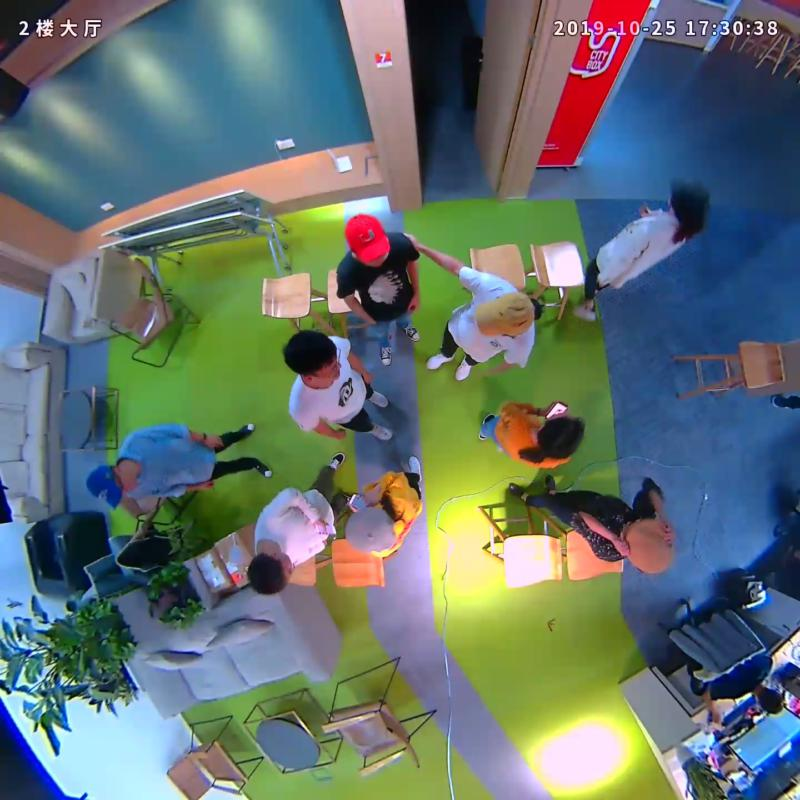head: (618, 516, 675, 575), (283, 329, 342, 382), (476, 289, 536, 336), (343, 506, 398, 553), (85, 462, 138, 509), (344, 212, 391, 264), (538, 415, 585, 460), (246, 551, 294, 595), (667, 181, 711, 221)
